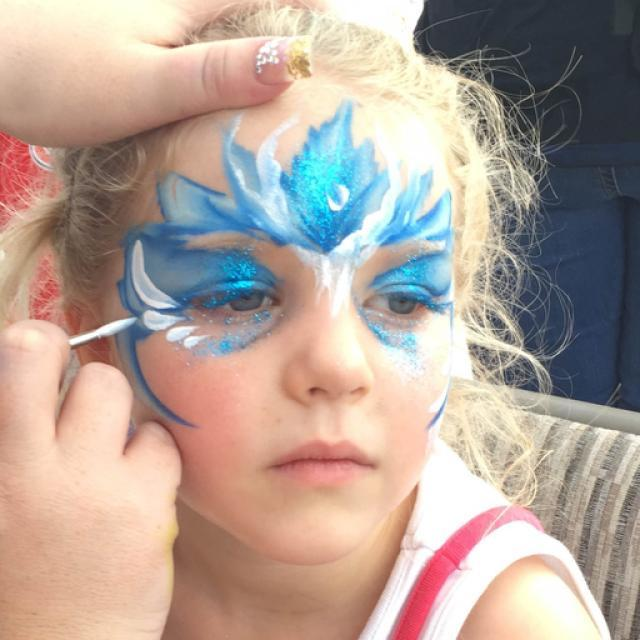neutral: (110, 75, 458, 568)
